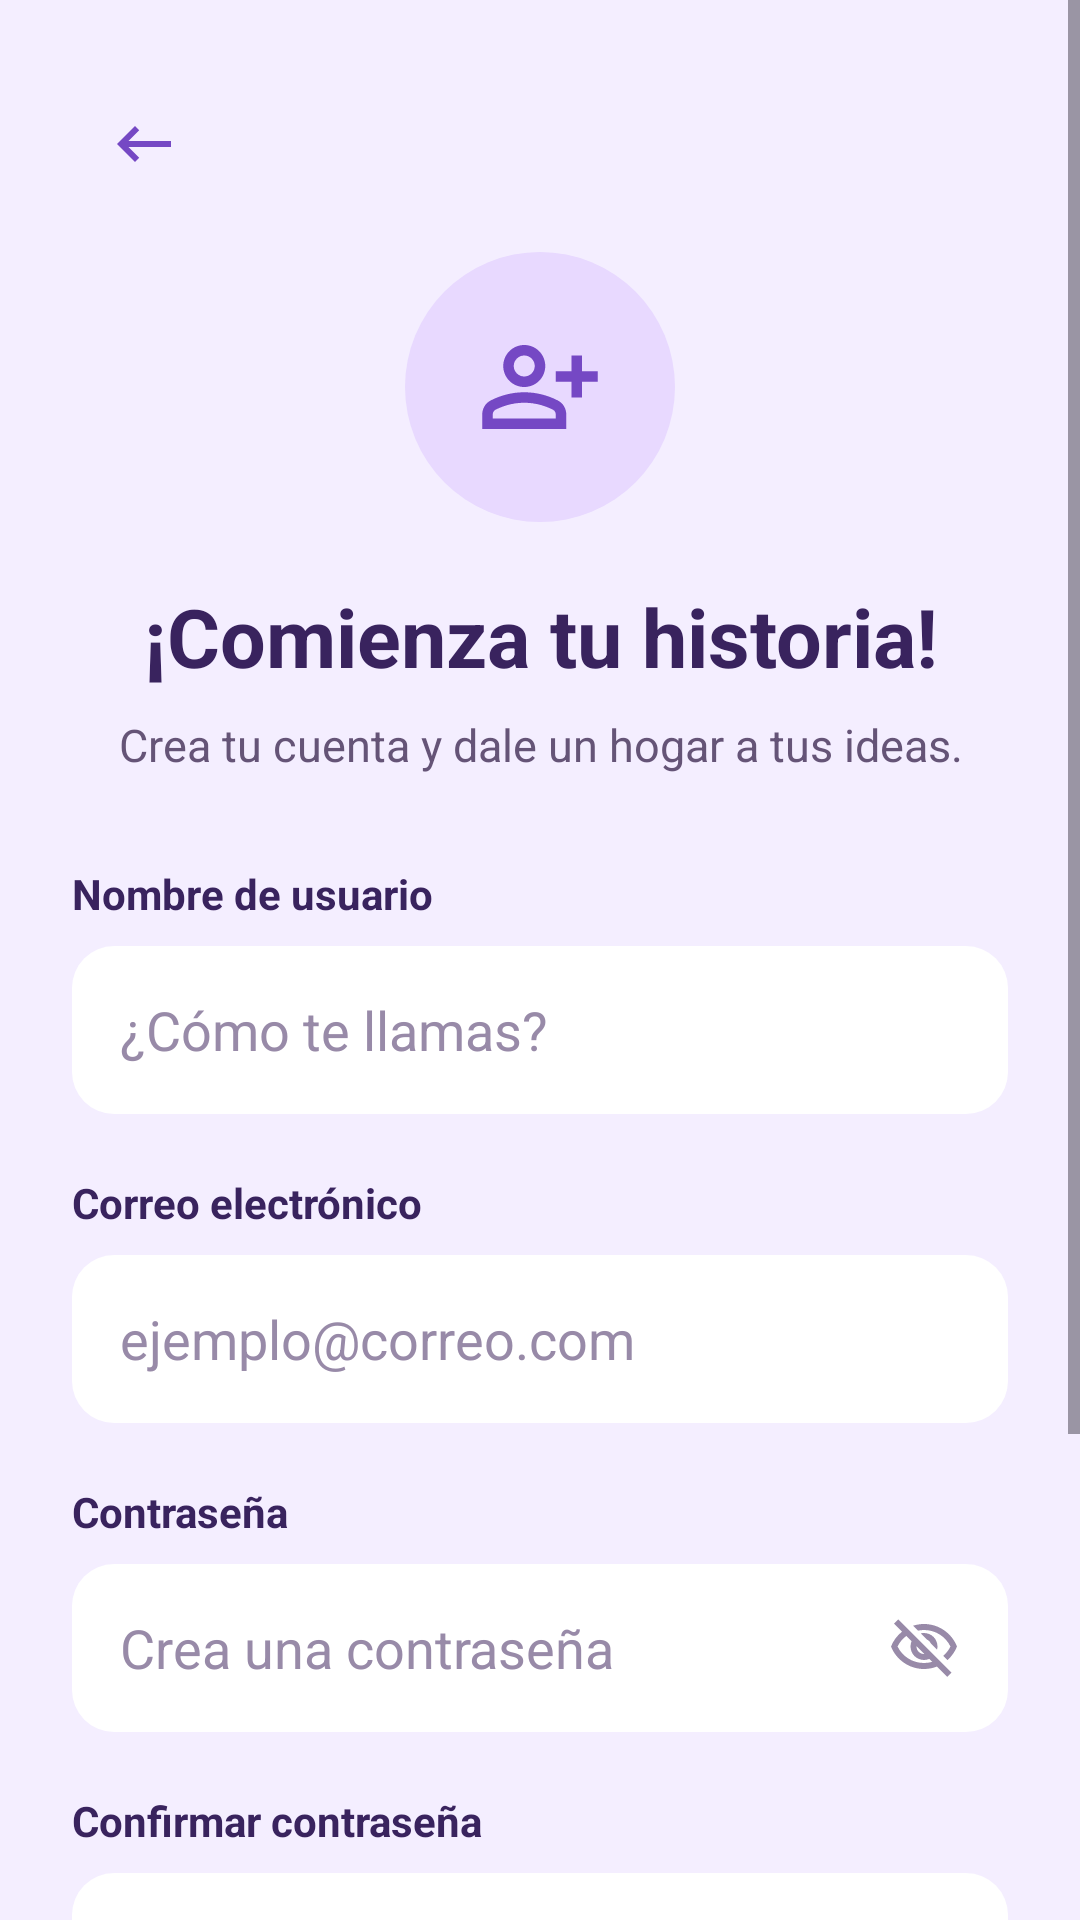

Icons on this 1080w x 1920h Android screen, each with the point to tap as (x=x, y=y):
Icono de registro: (x=540, y=387)
Volver al inicio de sesión: (x=144, y=144)
